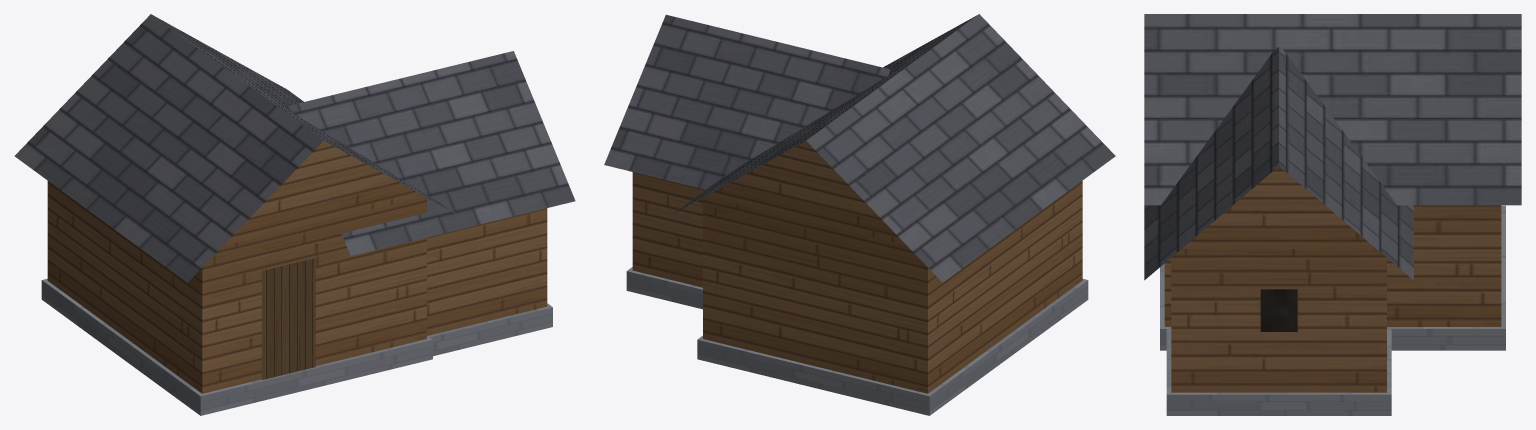
File: ae_snow_wood_medium_l_lod2.glb
3 views of the same model, side by side, from view 1: azimuth 30°, elevation 25°; view 2: azimuth 150°, elevation 25°; view 3: azimuth 270°, elevation 25° (orthographic). The views are drawn at different scales.
Visible parts, largest first — view 1: ae_snow_wood_medium_l_lod2; view 2: ae_snow_wood_medium_l_lod2; view 3: ae_snow_wood_medium_l_lod2.
Boxes of the visible parts, x1=… form: ae_snow_wood_medium_l_lod2: x1=14, y1=14, x2=575, y2=415; ae_snow_wood_medium_l_lod2: x1=604, y1=14, x2=1115, y2=415; ae_snow_wood_medium_l_lod2: x1=1144, y1=14, x2=1521, y2=415.
Bounding box in the file's own units: 7.25 × 4.5 × 5.6.
1 material, 1 textured.
